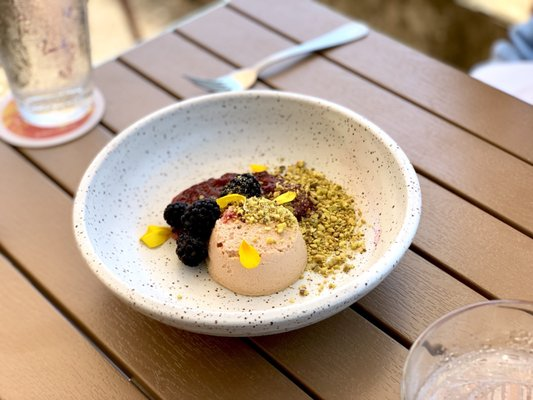pizza: (400, 299, 533, 400), (0, 0, 102, 130)
sushi: (79, 89, 423, 344)
